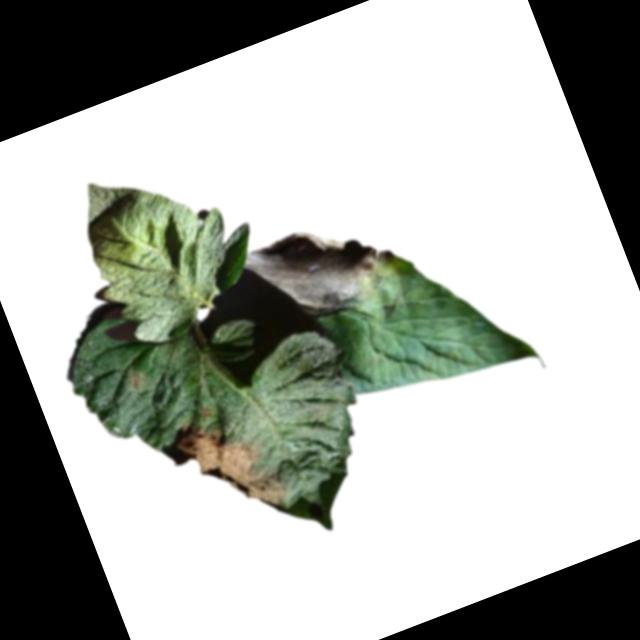Late_blight: (239, 201, 405, 338), (153, 396, 295, 545), (118, 363, 151, 396)
healthy: (64, 134, 277, 357)
